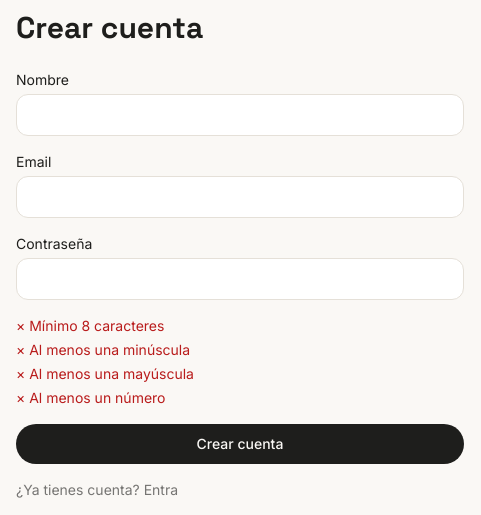
Test: auth pages › updates password requirements while typing
The width and height of the screenshot is (481, 515).
Type "abc" into the password field labelled "Contraseña" at (240, 279), box [16,258,464,300]
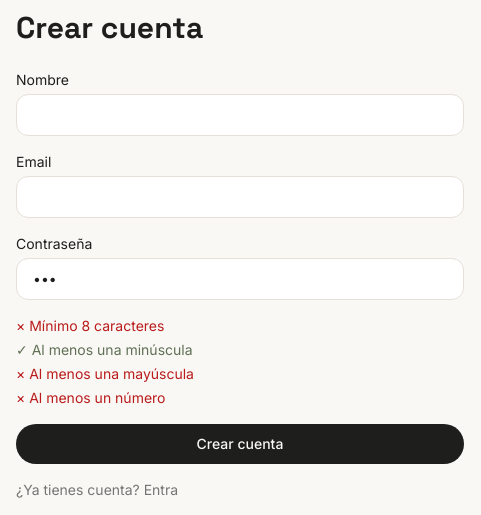
Expected: the list item "× Mínimo 8 caracteres" is shown, [16,317,164,334]
Now the list item "✓ Al menos una minúscula" is shown, box [16,341,193,358]
Type "Abcdefg1" into the password field labelled "Contraseña" at (240, 279), box [16,258,464,300]
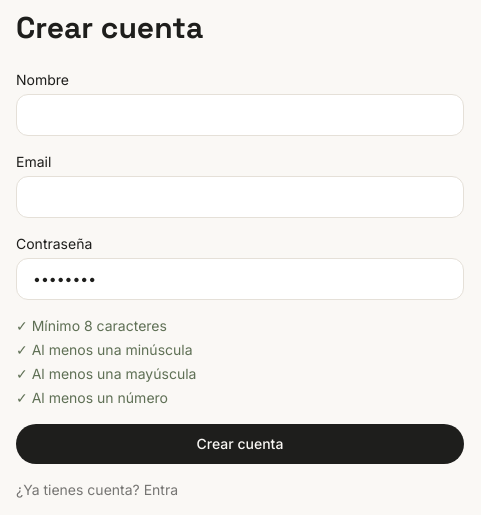
Now the list item "✓ Mínimo 8 caracteres" is shown, box [16,317,167,334]
Now the list item "✓ Al menos una mayúscula" is shown, box [16,365,196,382]
Now the list item "✓ Al menos un número" is shown, box [16,389,168,406]
